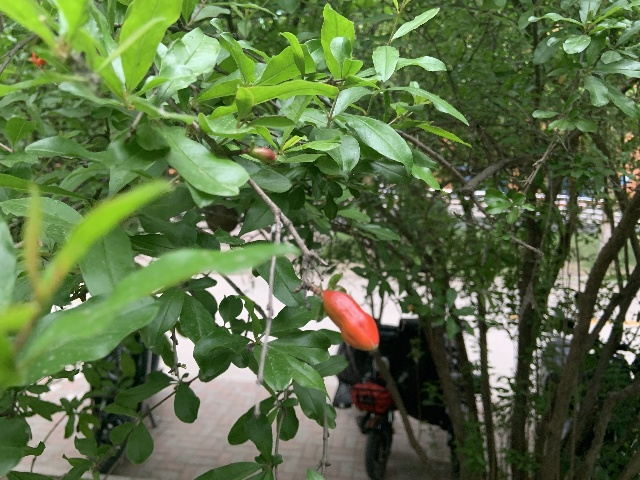bud: (321, 289, 379, 351), (250, 147, 276, 162)
flower: (27, 51, 45, 67)
